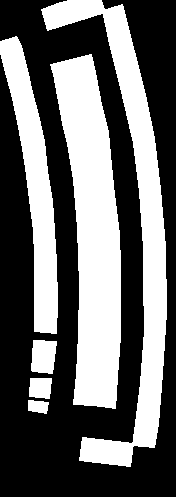parkingspot: (102, 4, 166, 447), (70, 54, 120, 408), (50, 59, 101, 405), (0, 36, 57, 333), (41, 0, 105, 30), (79, 437, 133, 466), (31, 340, 56, 373), (29, 378, 51, 398), (28, 400, 48, 413)
